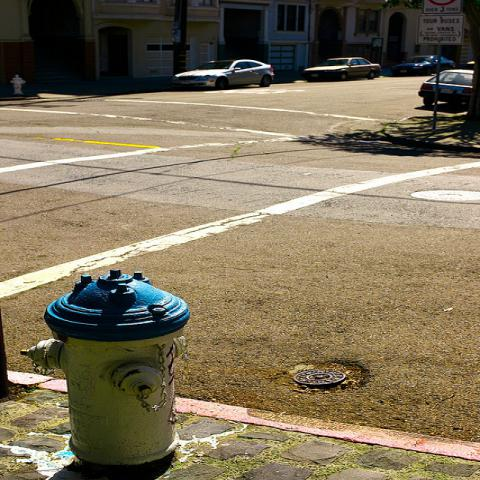car: (172, 59, 274, 90), (300, 57, 382, 82), (419, 69, 473, 106), (391, 54, 460, 77)
